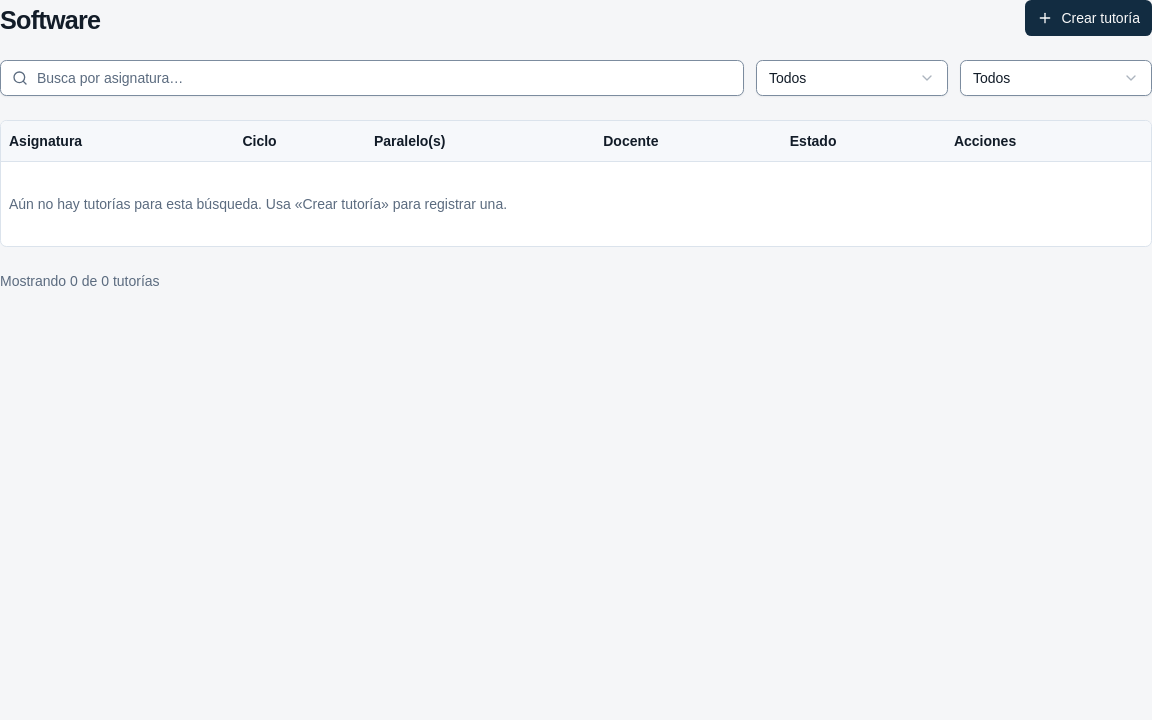
Test: Coordinación de tutorías › solo ofrece asignaturas activas al crear una tutoría
The image size is (1152, 720).
Check: the text "Aún no hay tutorías" is shown, box [9,196,507,212]
Click the button "Crear tutoría" at (1089, 18), box [1025,0,1151,36]
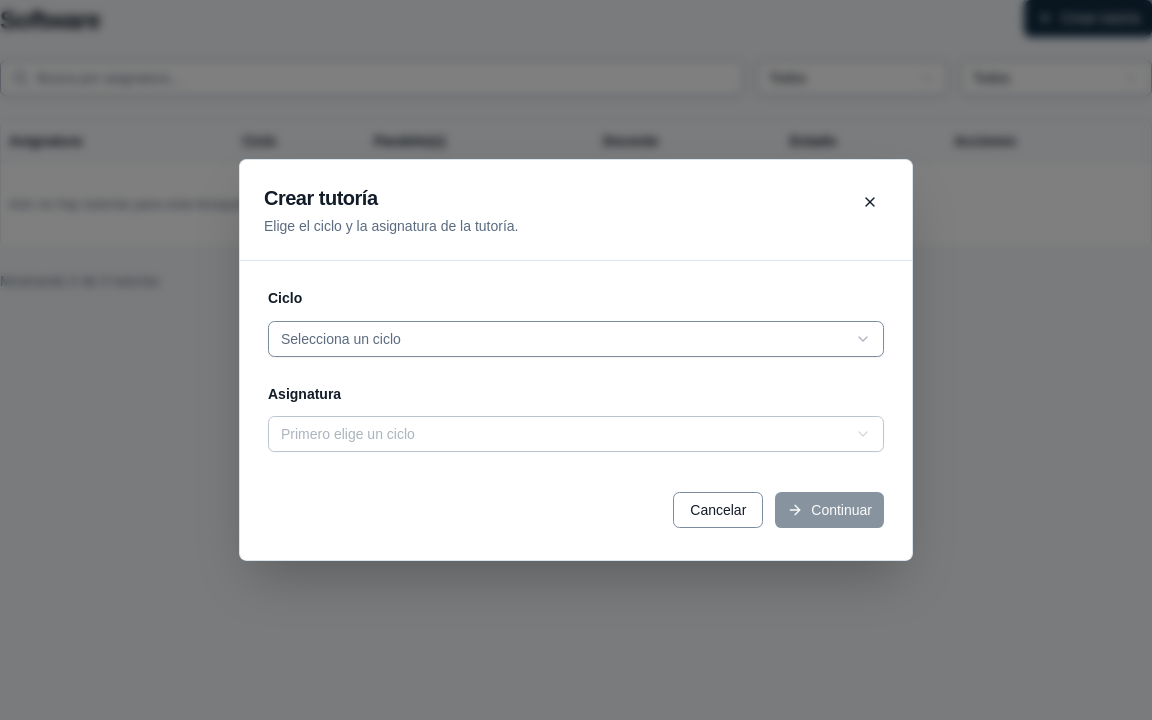
Click the dropdown labelled "Selecciona un ciclo" at (341, 338), box [268,320,884,356]
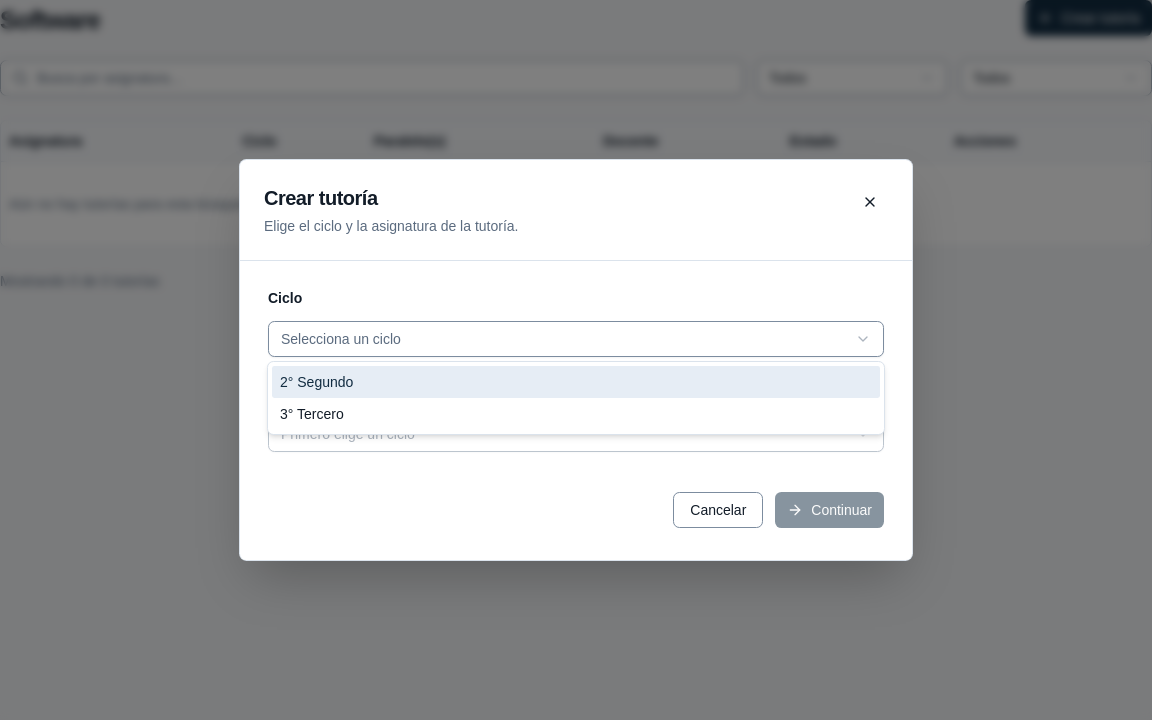
Click the option "2° Segundo" at (317, 382), box [272,366,880,398]
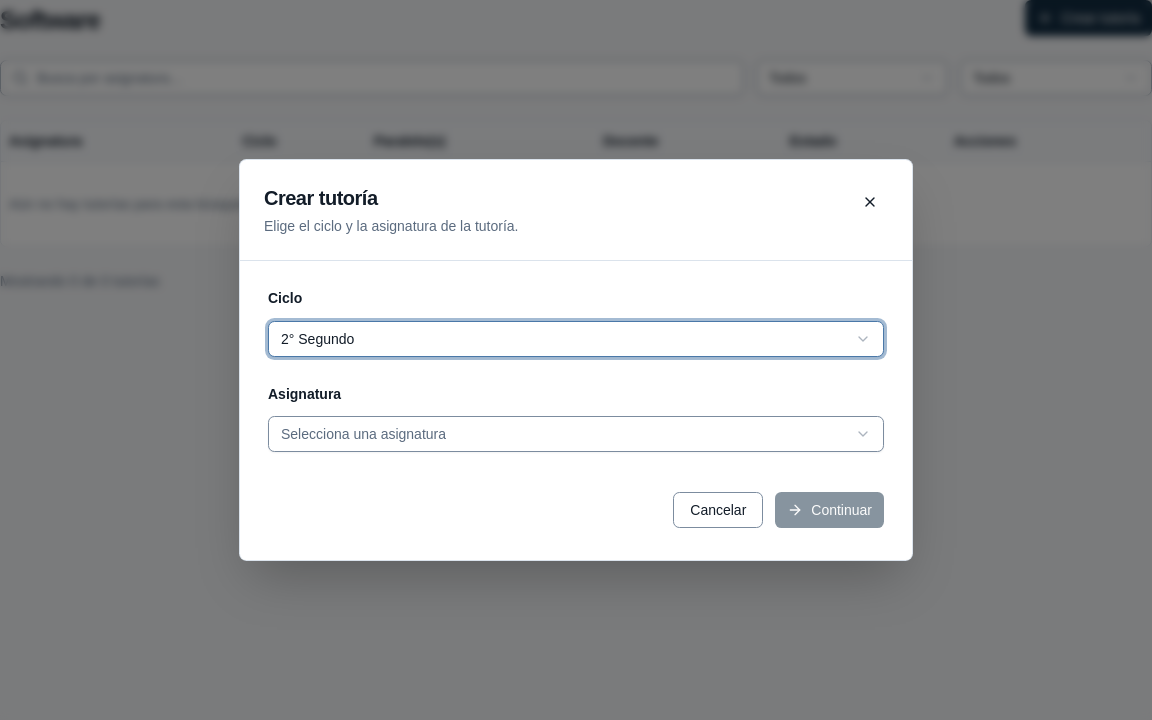
Click the dropdown labelled "asignatura" at (364, 434), box [268,416,884,452]
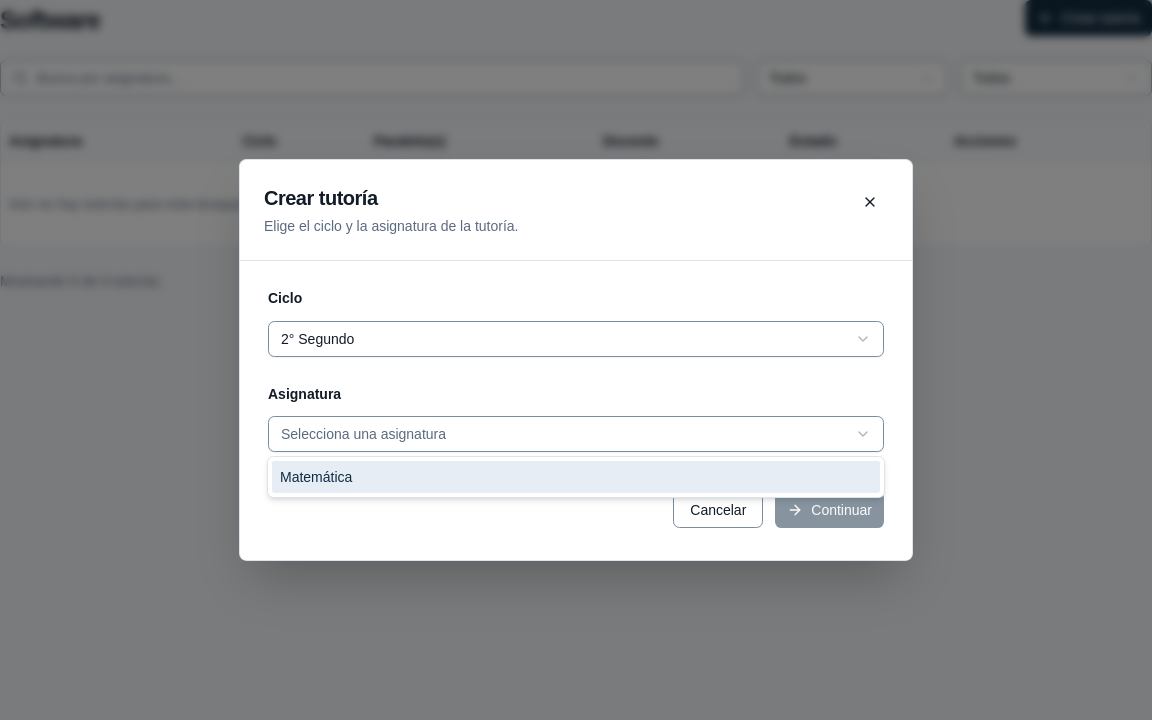
Check: the option "Matemática" is shown, box [272,461,880,493]
